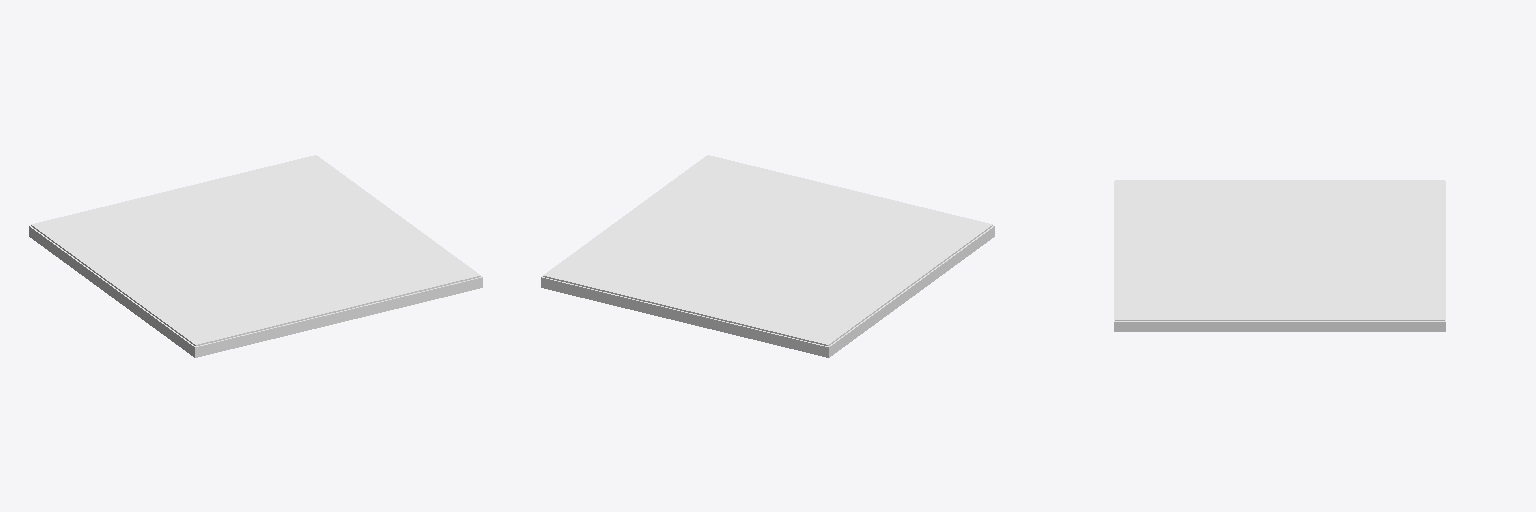
Rendered from stage1_2block-0-Stage1-2.obj.
3 renders of one model, left to right at view 1: azimuth 30°, elevation 25°; view 2: azimuth 150°, elevation 25°; view 3: azimuth 270°, elevation 25°, orthographic.
Parts seen in each view (by area): view 1: Stage1-2; view 2: Stage1-2; view 3: Stage1-2.
Part boxes in pixels (x1,y1,x2,y2): Stage1-2: (29,155,482,357); Stage1-2: (541,155,994,357); Stage1-2: (1114,180,1445,331).
Bounding box in the file's own units: 20 × 0.8 × 20.